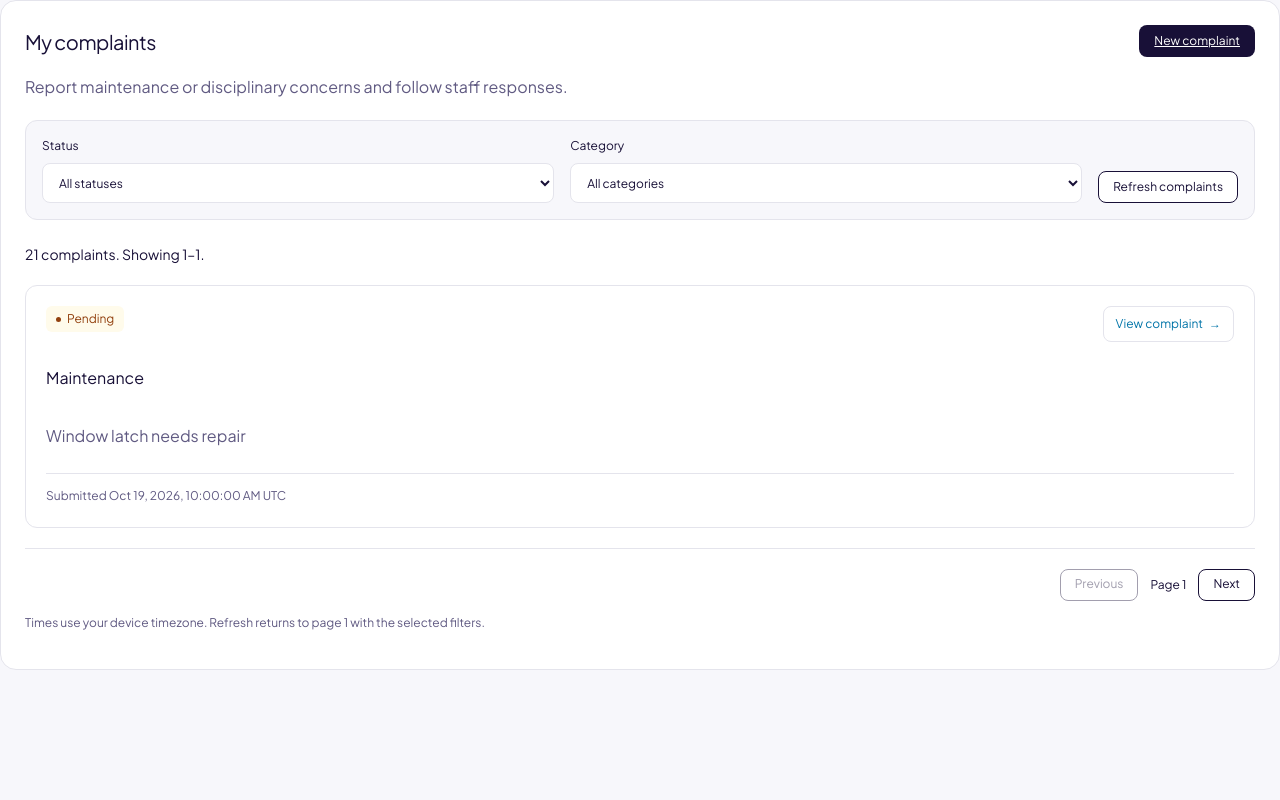
Test case: paginates without repeated requests and refreshes to page one
Expected: the text "Window latch needs repair" is shown, [46, 425, 246, 446]
Click the button "Next" at (1227, 585), box [1198, 569, 1255, 601]
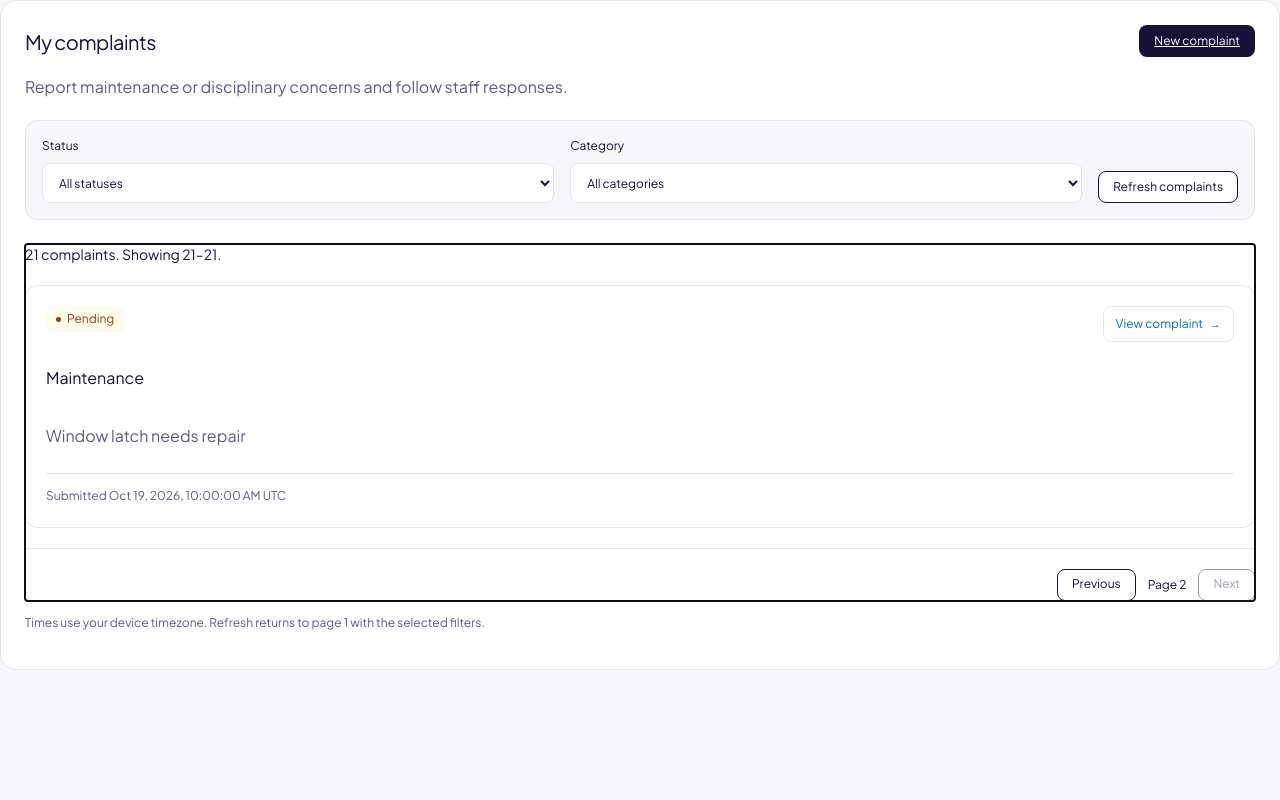
Expected: the text "Page 2" is shown, [1148, 576, 1186, 594]
Click the button "Refresh complaints" at (1168, 187), box [1098, 171, 1238, 203]
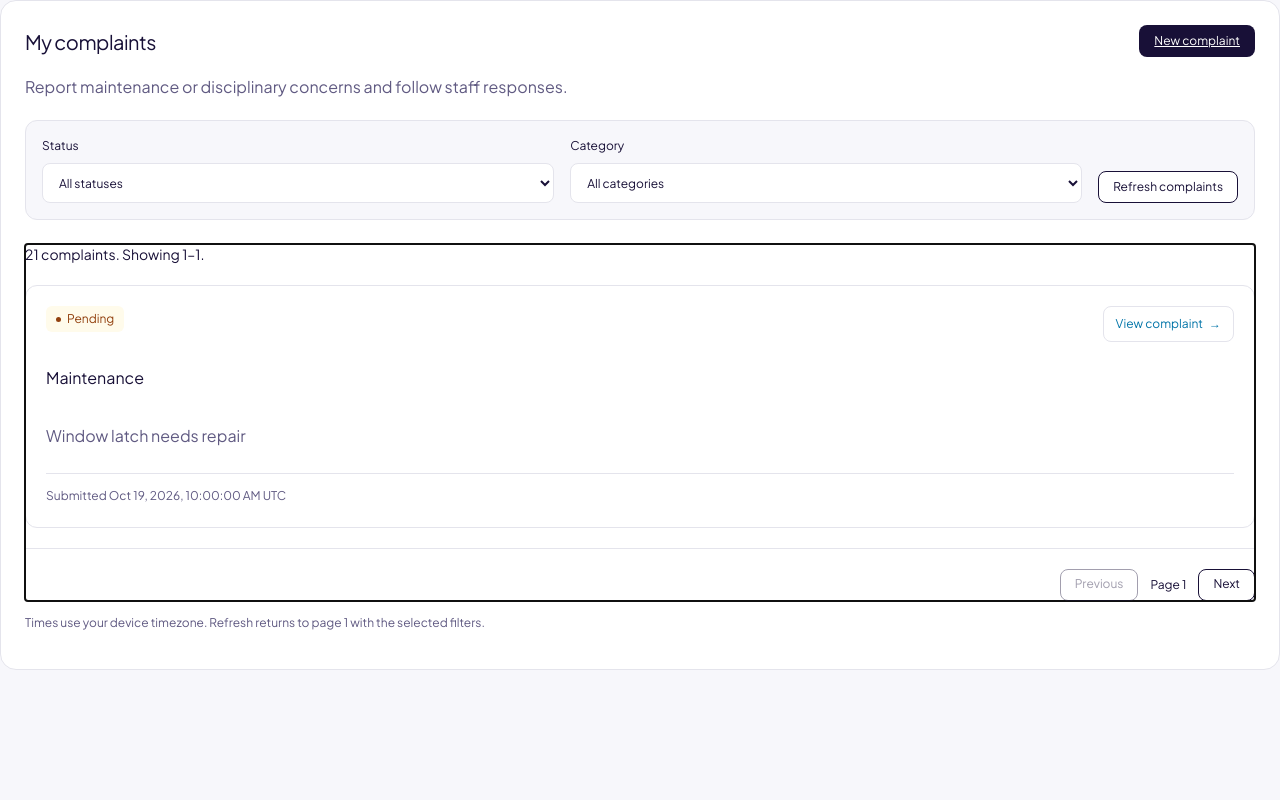
Expected: the text "Page 1" is shown, [1150, 576, 1186, 594]
